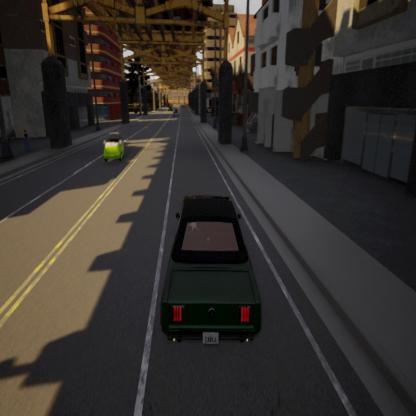Cars: (158, 175, 267, 373), (103, 117, 138, 180), (173, 103, 180, 120)
